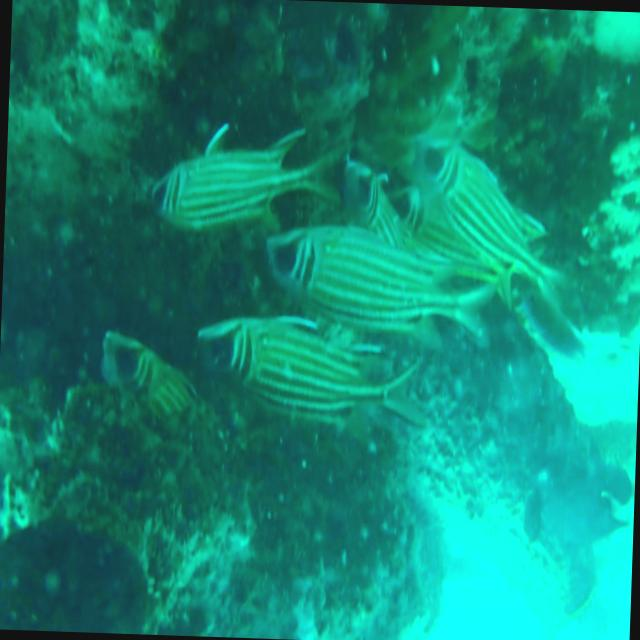Asker Baligi: (396, 107, 586, 346), (111, 88, 357, 266), (180, 292, 436, 450)
